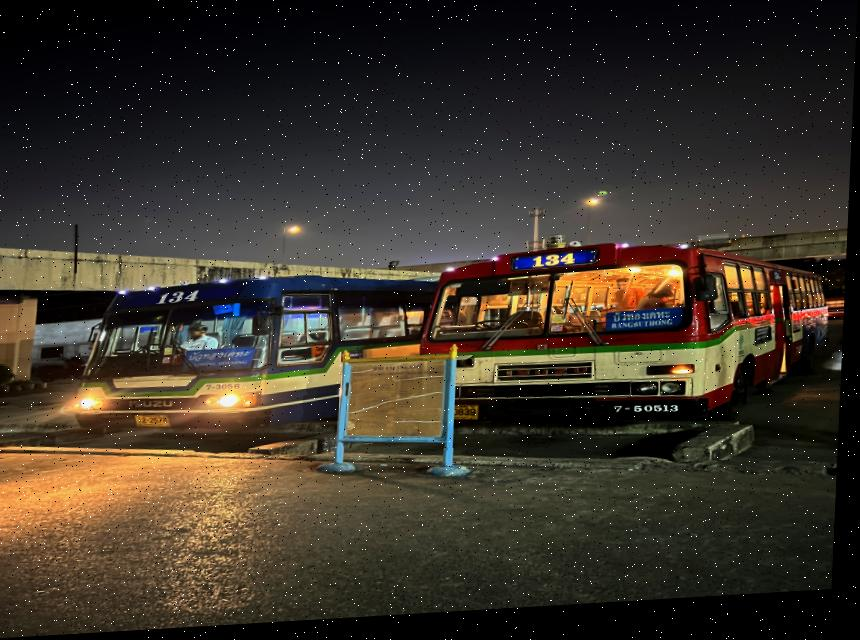BMTA-bus: (424, 252, 830, 482), (83, 280, 438, 434)
Bus Line Number: (525, 259, 589, 276), (159, 290, 204, 308)
Bus Side Number: (615, 410, 693, 425), (207, 384, 247, 396)
Destination Sign: (609, 316, 693, 340), (187, 348, 261, 374)
